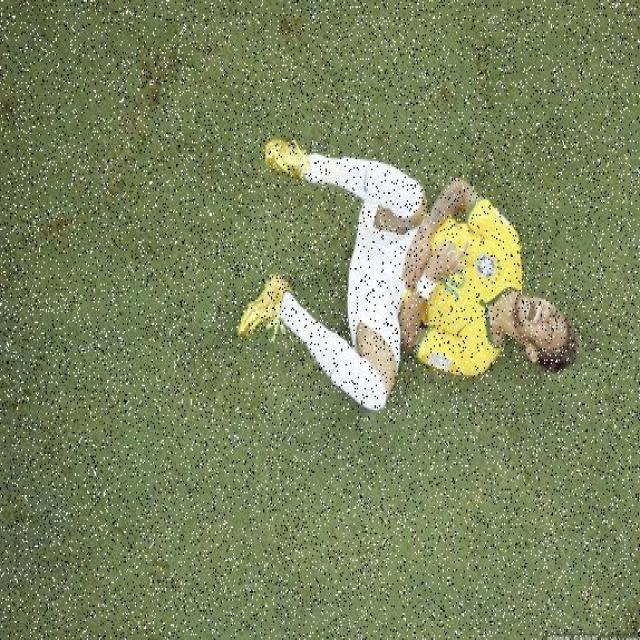fall: (228, 139, 576, 408)
